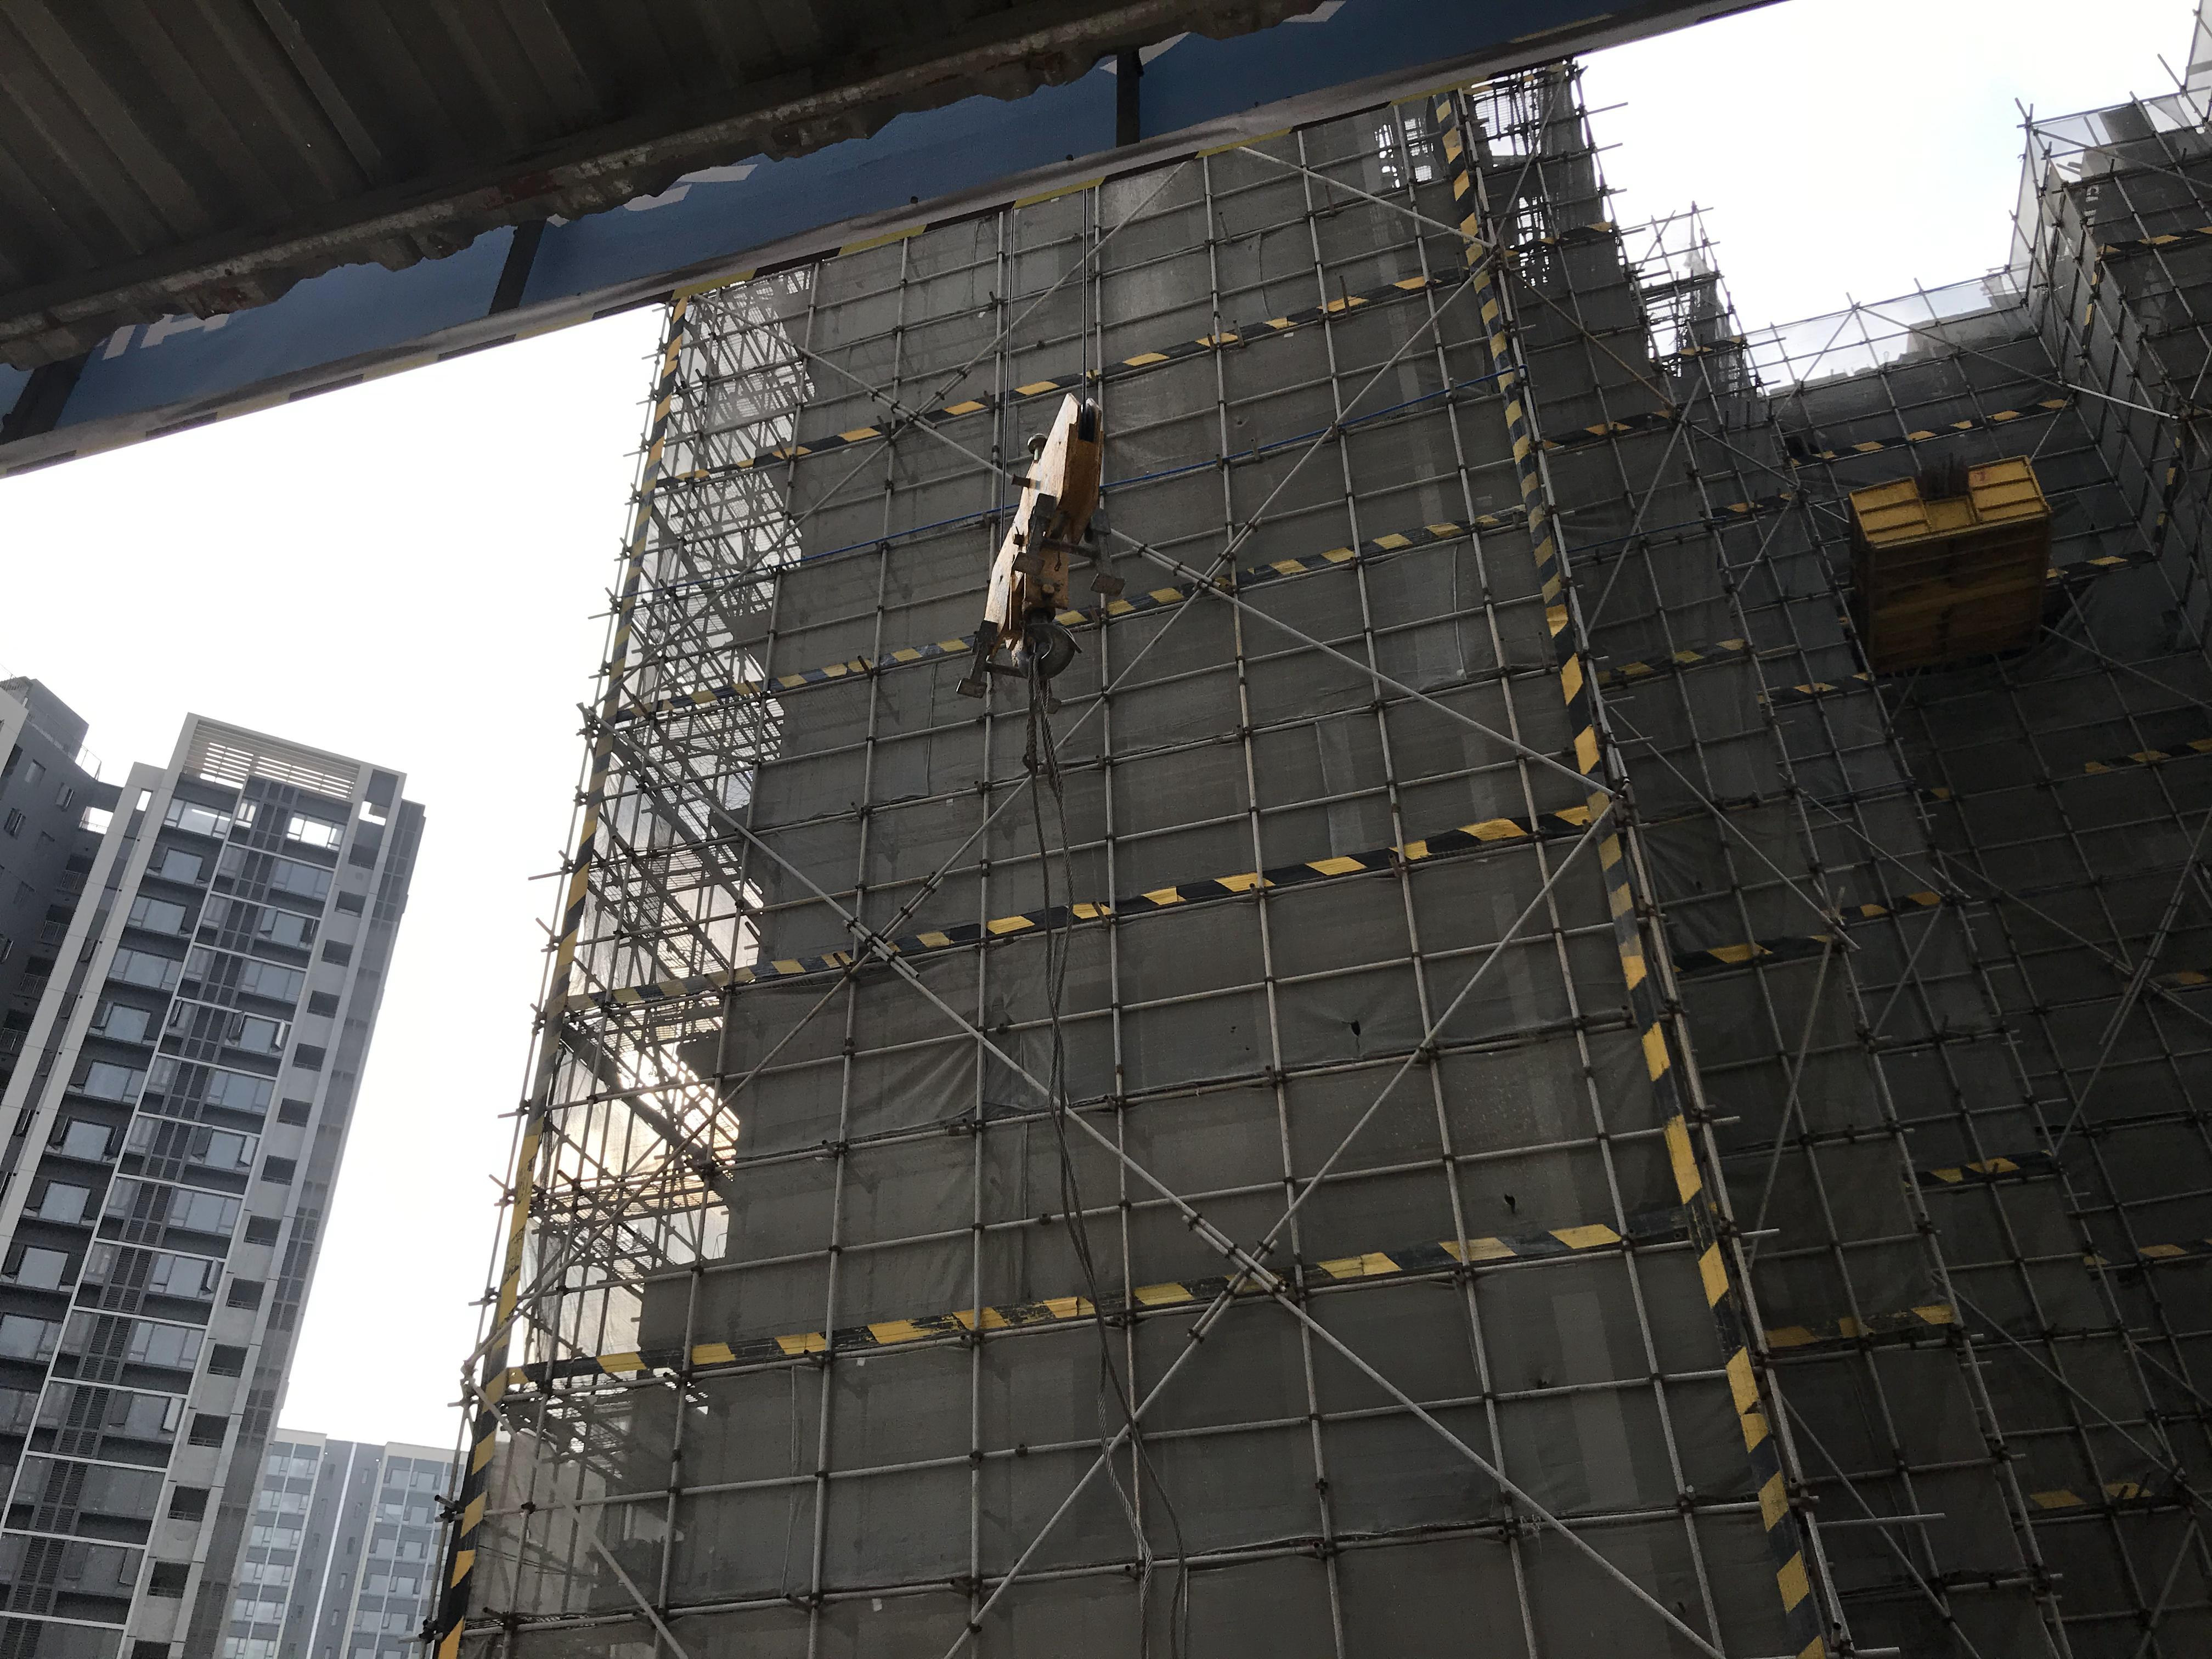hook: (927, 410, 1153, 711)
